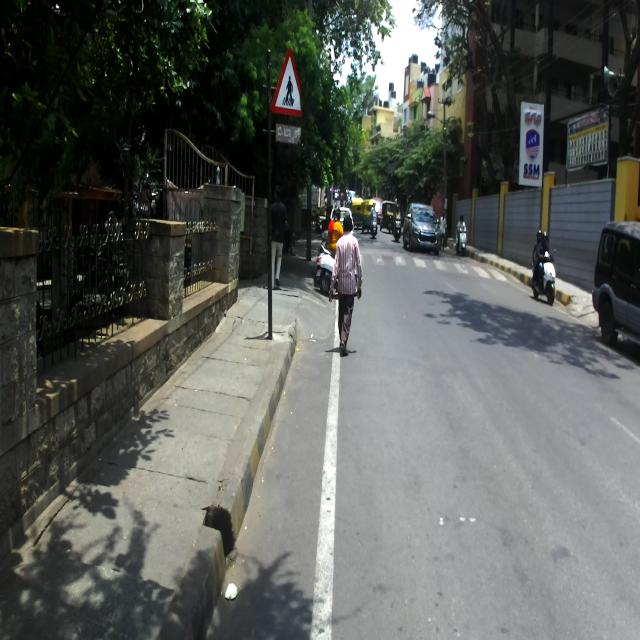car ahead at: (397, 202, 439, 257)
motorcycle ahead at: (529, 228, 560, 306)
person ahead at: (329, 212, 365, 361)
sign board ahead at: (273, 46, 304, 126)
